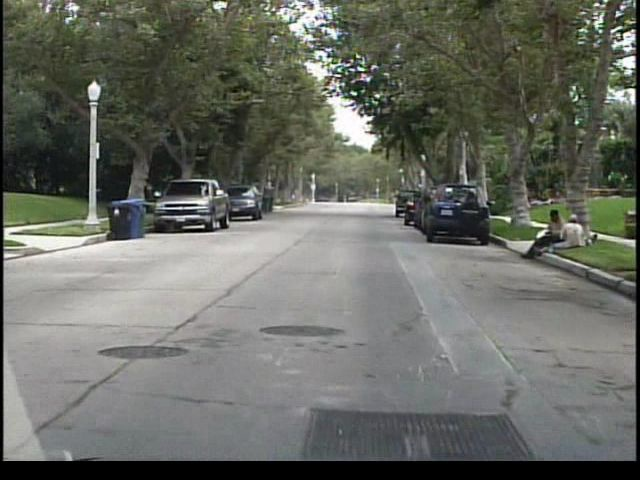person: (519, 207, 568, 260), (555, 208, 585, 244)
